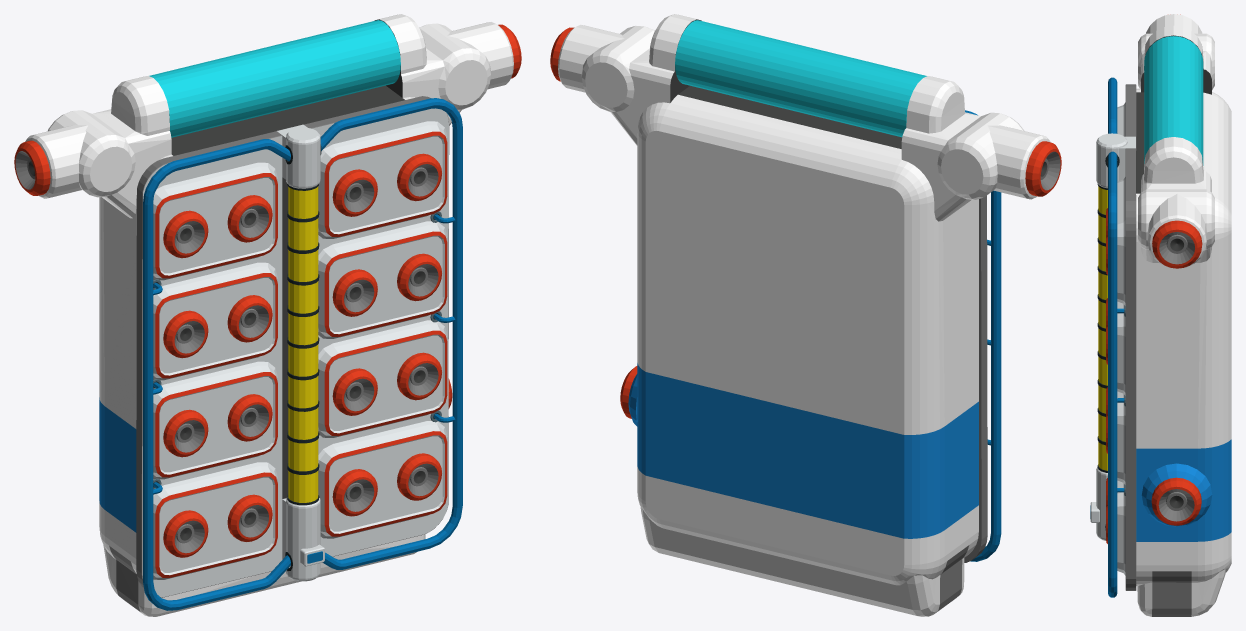
The model's file is backpack-pro-max.glb.
3 renders of one model, left to right at view 1: azimuth 30°, elevation 25°; view 2: azimuth 150°, elevation 25°; view 3: azimuth 270°, elevation 25°, orthographic. The views are drawn at different scales.
Parts seen in each view (by area): view 1: OriginalRearAndShoulders_6, SmoothFrontBase, OxygenGauge, Pad_1_1, Pad_1_2, Pad_1_0, RoundOuterRail_-1, Pad_1_3, RoundOuterRail_1, Pad_-1_0, Pad_-1_3, Pad_-1_1 (+52 smaller); view 2: OriginalRearAndShoulders_6, OriginalRearAndShoulders_0, OxygenGauge, RoundOuterRail_-1, SmoothFrontBaseSideEdge, OriginalRearAndShoulders_1, OriginalRearAndShoulders_5, OriginalRearAndShoulders_3; view 3: OriginalRearAndShoulders_6, OriginalRearAndShoulders_0, OxygenGauge, SmoothFrontBaseSideEdge, RoundOuterRail_1, OriginalRearAndShoulders_3, OriginalRearAndShoulders_5, OriginalRearAndShoulders_1, Pad_1_0, Pad_1_3, Pad_1_1, Pad_1_2 (+10 smaller).
Boxes of the visible parts, x1,y1,x2,y2 form: OriginalRearAndShoulders_6: [25, 14, 513, 616]; SmoothFrontBase: [142, 108, 448, 597]; OxygenGauge: [149, 20, 400, 137]; Pad_1_1: [318, 221, 447, 338]; Pad_1_2: [318, 320, 447, 437]; Pad_1_0: [318, 121, 447, 238]; RoundOuterRail_-1: [143, 139, 290, 610]; Pad_1_3: [318, 421, 447, 538]; RoundOuterRail_1: [320, 98, 462, 569]; Pad_-1_0: [153, 162, 277, 280]; Pad_-1_3: [153, 462, 277, 579]; Pad_-1_1: [153, 262, 277, 380]; OriginalRearAndShoulders_6: [558, 14, 1050, 616]; OriginalRearAndShoulders_0: [628, 363, 978, 538]; OxygenGauge: [675, 20, 926, 137]; RoundOuterRail_-1: [965, 110, 1001, 561]; SmoothFrontBaseSideEdge: [964, 195, 987, 562]; OriginalRearAndShoulders_1: [670, 19, 1047, 176]; OriginalRearAndShoulders_5: [550, 27, 1061, 418]; OriginalRearAndShoulders_3: [936, 151, 1060, 612]; OriginalRearAndShoulders_6: [1136, 14, 1231, 616]; OriginalRearAndShoulders_0: [1136, 439, 1231, 541]; OxygenGauge: [1144, 36, 1203, 165]; SmoothFrontBaseSideEdge: [1125, 84, 1136, 590]; RoundOuterRail_1: [1108, 151, 1117, 597]; OriginalRearAndShoulders_3: [1152, 232, 1194, 616]; OriginalRearAndShoulders_5: [1151, 14, 1202, 525]; OriginalRearAndShoulders_1: [1136, 35, 1211, 508]; Pad_1_0: [1117, 177, 1125, 305]; Pad_1_3: [1117, 480, 1125, 575]; Pad_1_1: [1117, 301, 1125, 395]; Pad_1_2: [1117, 391, 1125, 484].
Bounding box in the file's own units: 1.67 × 1.72 × 0.4658.
